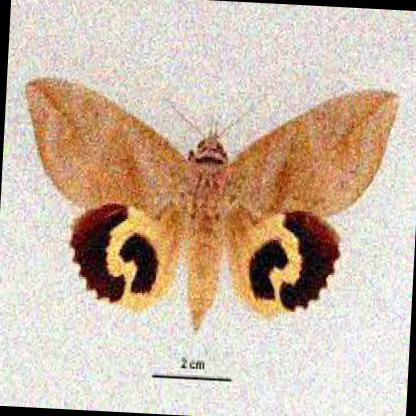fruit sucking moth: (26, 74, 404, 335)
